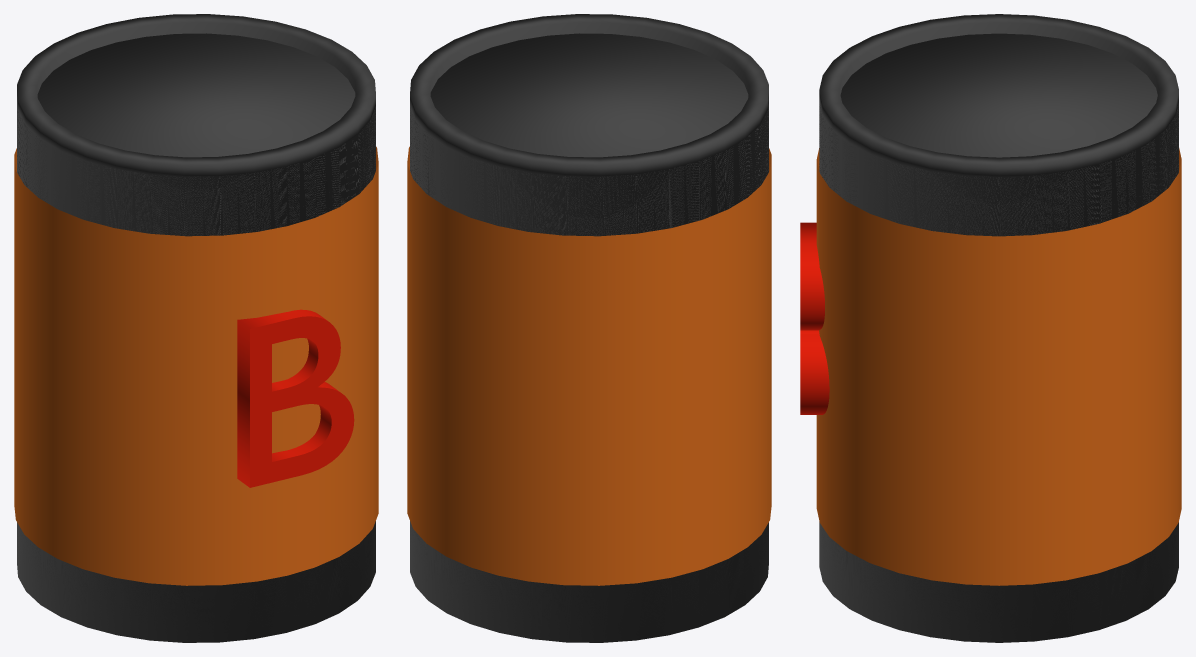
File: boostDrink.fbx
3 views of the same model, side by side, from view 1: azimuth 30°, elevation 25°; view 2: azimuth 150°, elevation 25°; view 3: azimuth 270°, elevation 25° (orthographic).
Visible parts, largest first — view 1: NURBS円柱, 円柱, テキスト; view 2: NURBS円柱, 円柱; view 3: NURBS円柱, 円柱, テキスト.
Part boxes in pixels (x1=…): NURBS円柱: x1=14, y1=146, x2=378, y2=585; 円柱: x1=17, y1=14, x2=375, y2=642; テキスト: x1=237, y1=309, x2=354, y2=487; NURBS円柱: x1=407, y1=146, x2=771, y2=585; 円柱: x1=410, y1=14, x2=768, y2=642; NURBS円柱: x1=816, y1=148, x2=1181, y2=585; 円柱: x1=819, y1=14, x2=1178, y2=642; テキスト: x1=800, y1=222, x2=829, y2=414.
Bounding box in the file's own units: 142 × 205 × 148.
